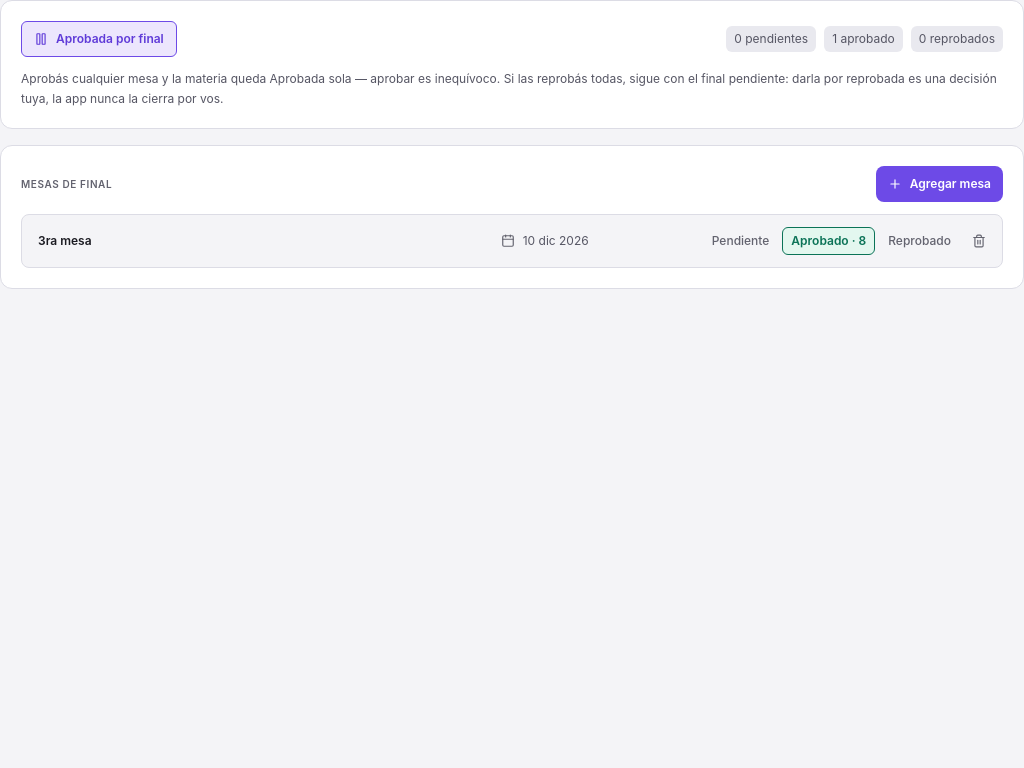
it: FinalesContainer — aprobar con nota › re-opens the modal pre-filled to edit the nota of an approved mesa
What coordinates should you click on to do the following:
click the button "Aprobado · 8"
I would click on:
 (829, 241)
Its box is x1=782 y1=227 x2=875 y2=255.
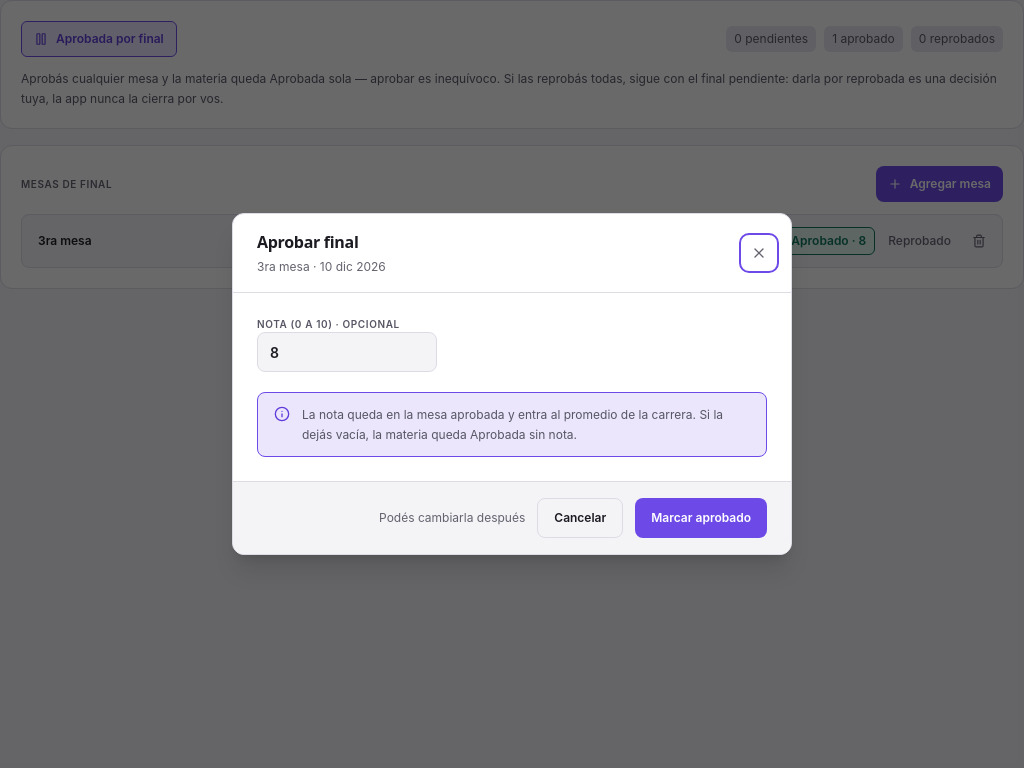
Now the number field labelled "NOTA (0 A 10) · OPCIONAL" holds "8", box x1=257 y1=332 x2=437 y2=372
